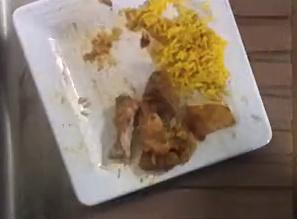rice: (123, 0, 227, 100)
unknown: (110, 70, 235, 171)
